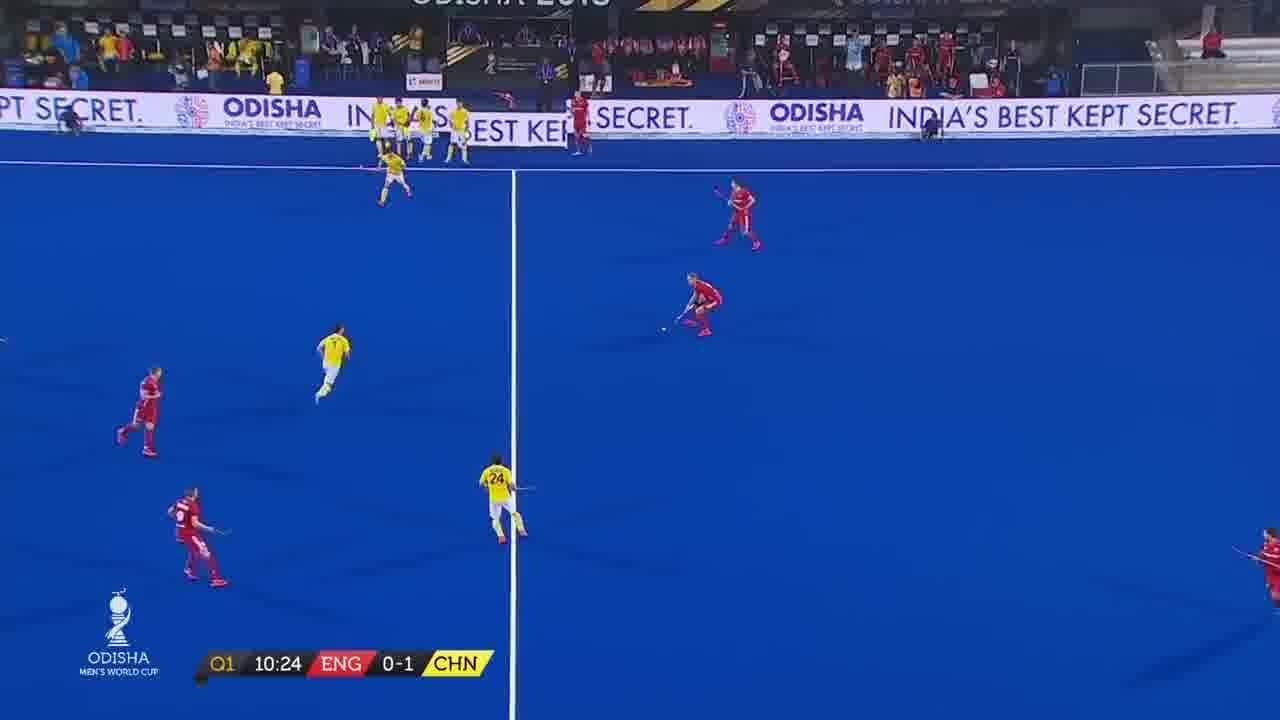ball: (652, 318, 676, 348)
